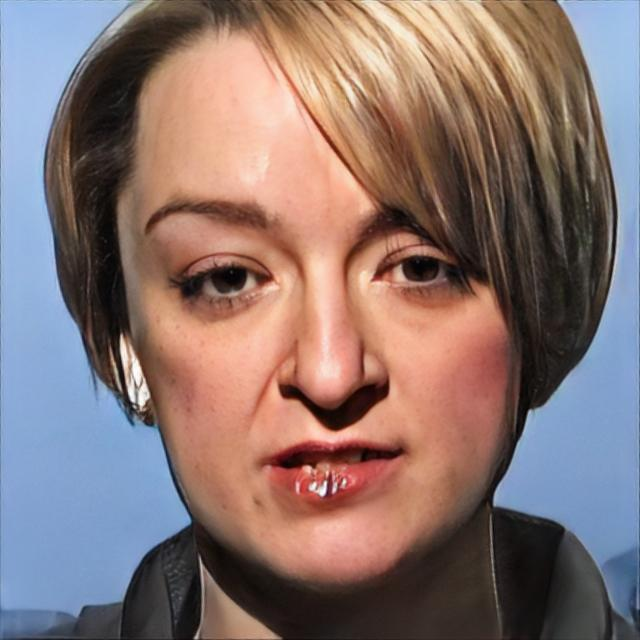disgust: (114, 6, 526, 596)
